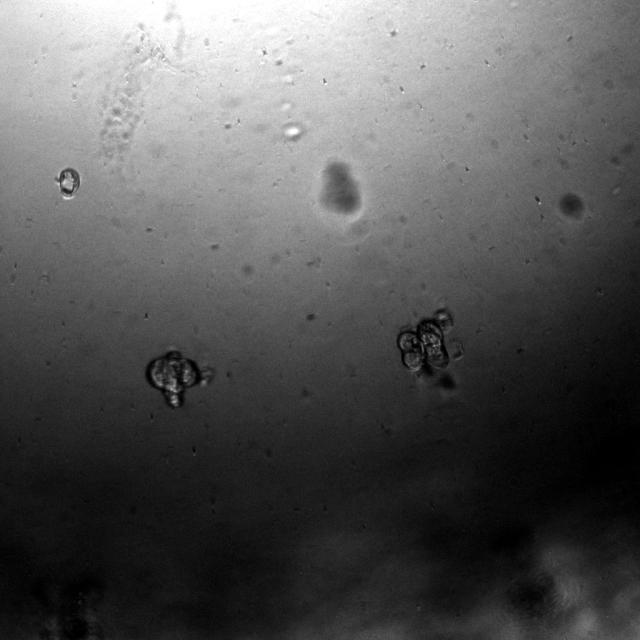organoid: (396, 306, 464, 393), (146, 350, 212, 408), (321, 162, 360, 214), (558, 192, 586, 221), (56, 168, 79, 198)
